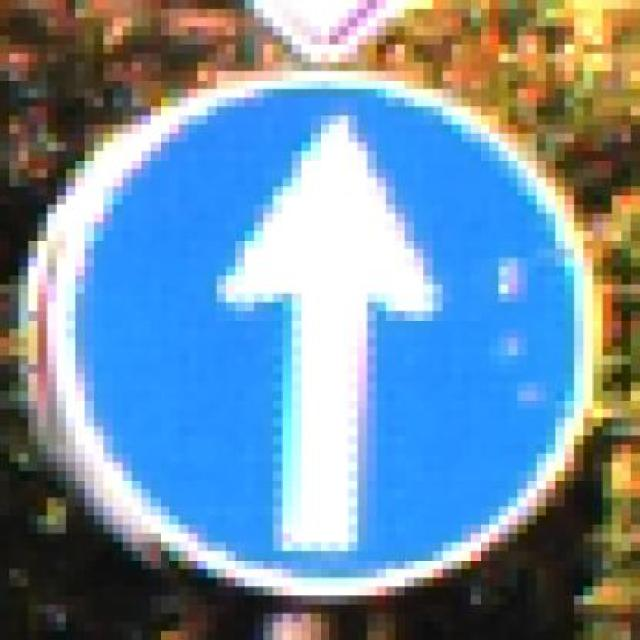Straight Ahead Only: (9, 61, 622, 604)
